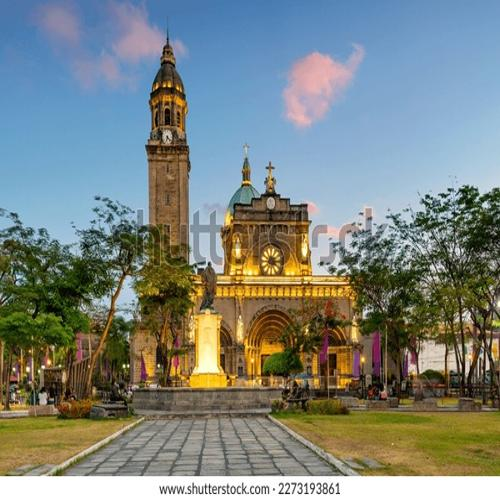Manila Cathedral Church: (83, 14, 415, 419)
